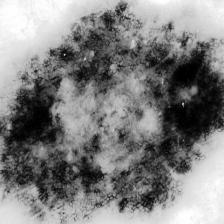Benign Marking or Mole: (0, 5, 224, 211)
